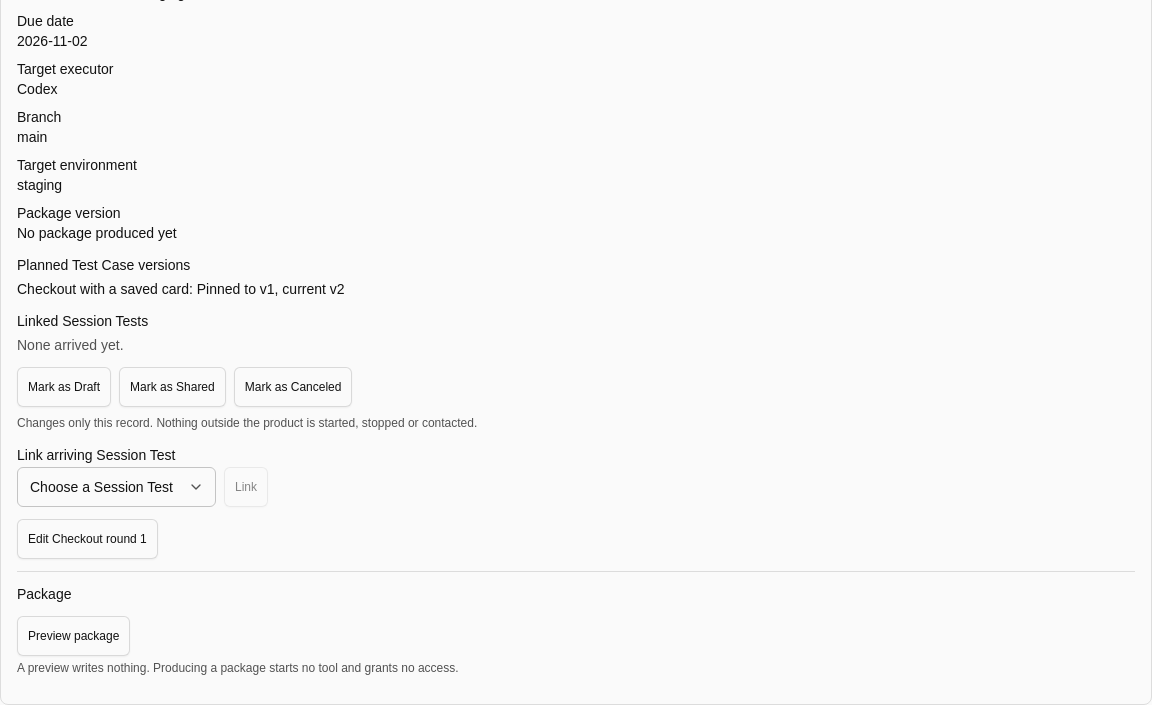
Test: a refused produce is shown and nothing is claimed as produced
(page scrolled)
Click the button "Preview package" at (74, 636), box 17,616 -> 130,656
(page scrolled)
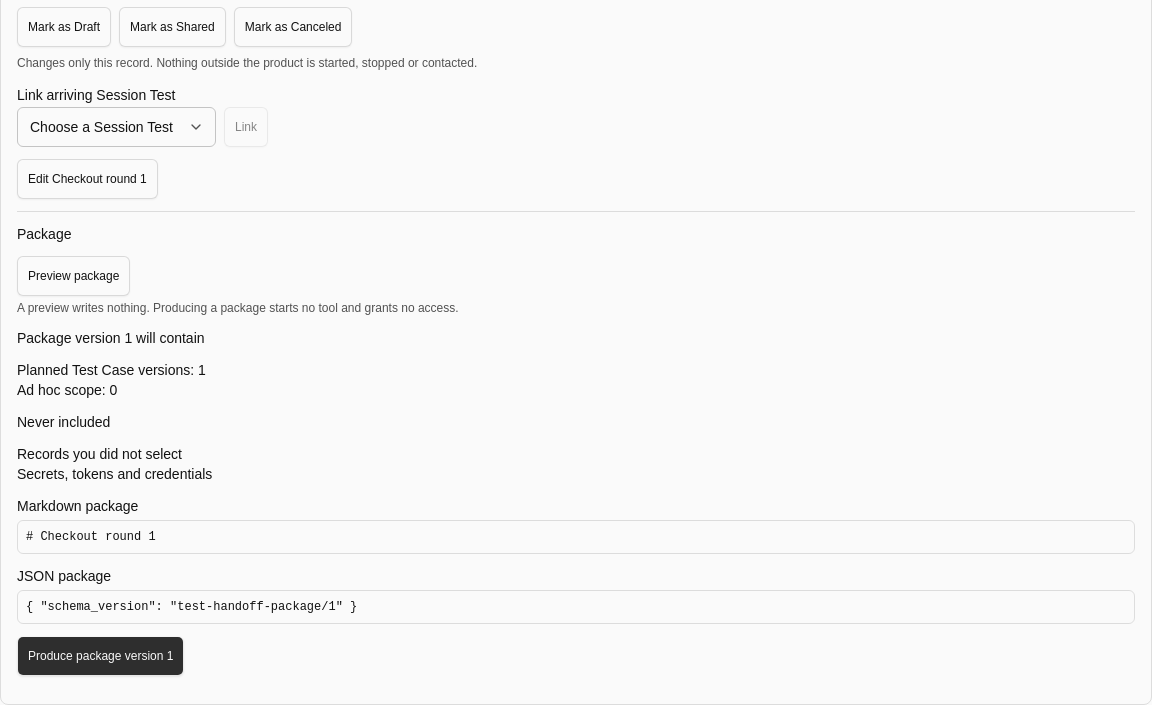
Click the button "Produce package version 1" at (101, 656), box 17,636 -> 184,676
(page scrolled)
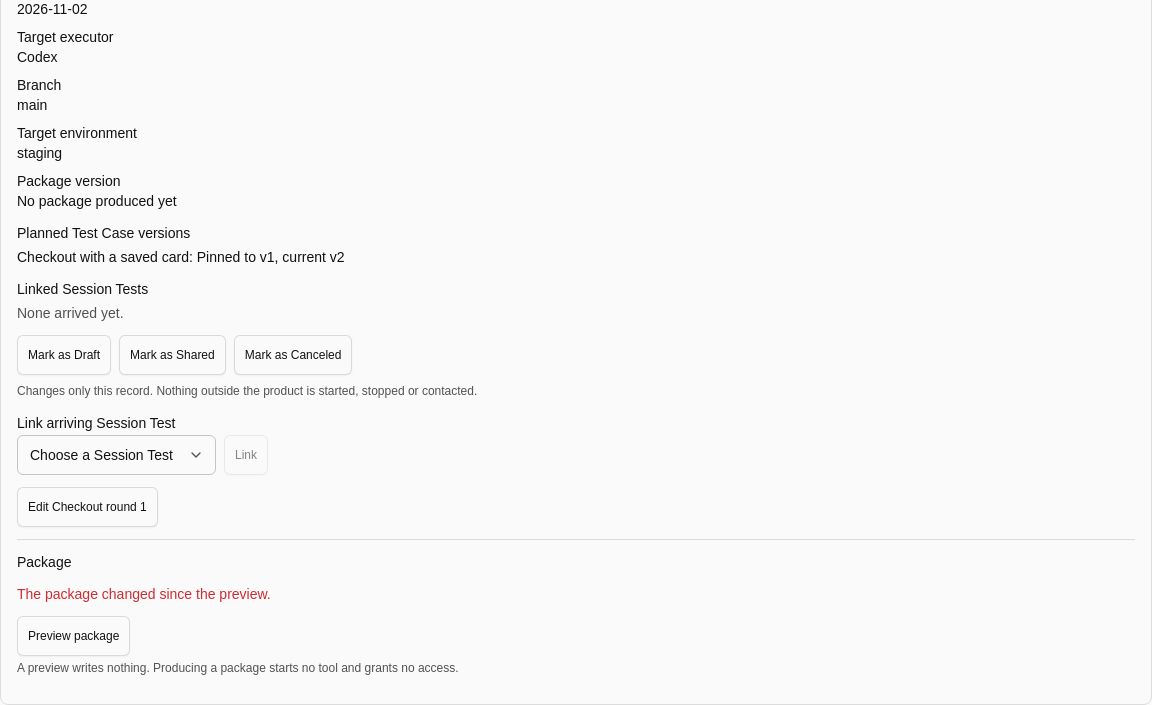
Check: the message "The package changed since the preview." is shown, box 17,586 -> 271,602
